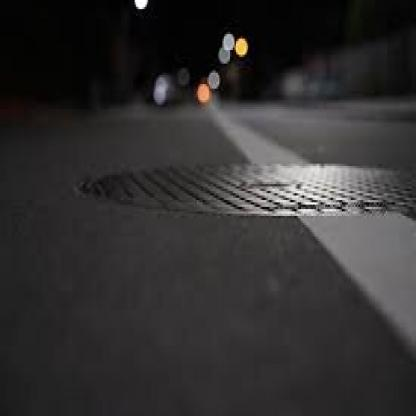manholes: (56, 121, 416, 294)
